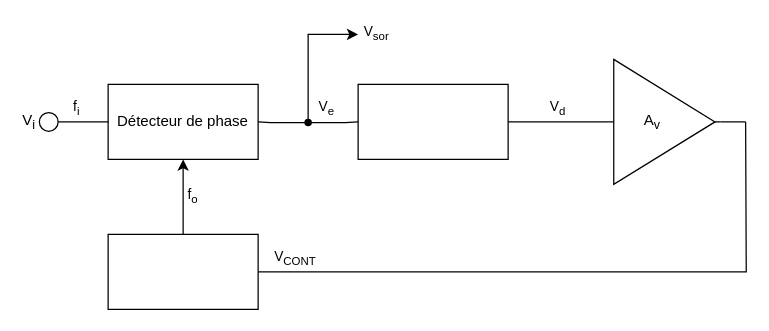
Image size: 769x331. Some labels were removed from this diagram. The shapes that lost their labels are listed below. From the top down, each one's box as (x1, y1, x2, y2) in pixels, then its label:
(357, 83, 508, 159): Filtre passe-bas
(107, 233, 258, 309): Oscillateur contrôlé par tension (VCO)
